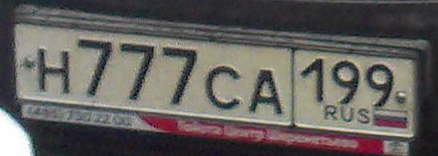character: (116, 36, 157, 108), (160, 42, 200, 110), (77, 32, 113, 102), (250, 64, 288, 119), (204, 63, 242, 116), (35, 44, 73, 95), (331, 55, 363, 110), (362, 58, 394, 111), (298, 53, 328, 109)
